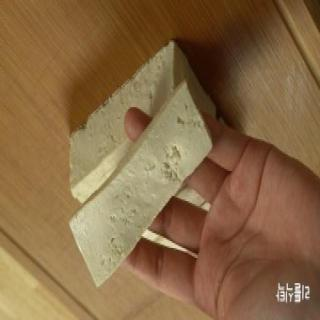Tahu: (69, 39, 220, 289)
